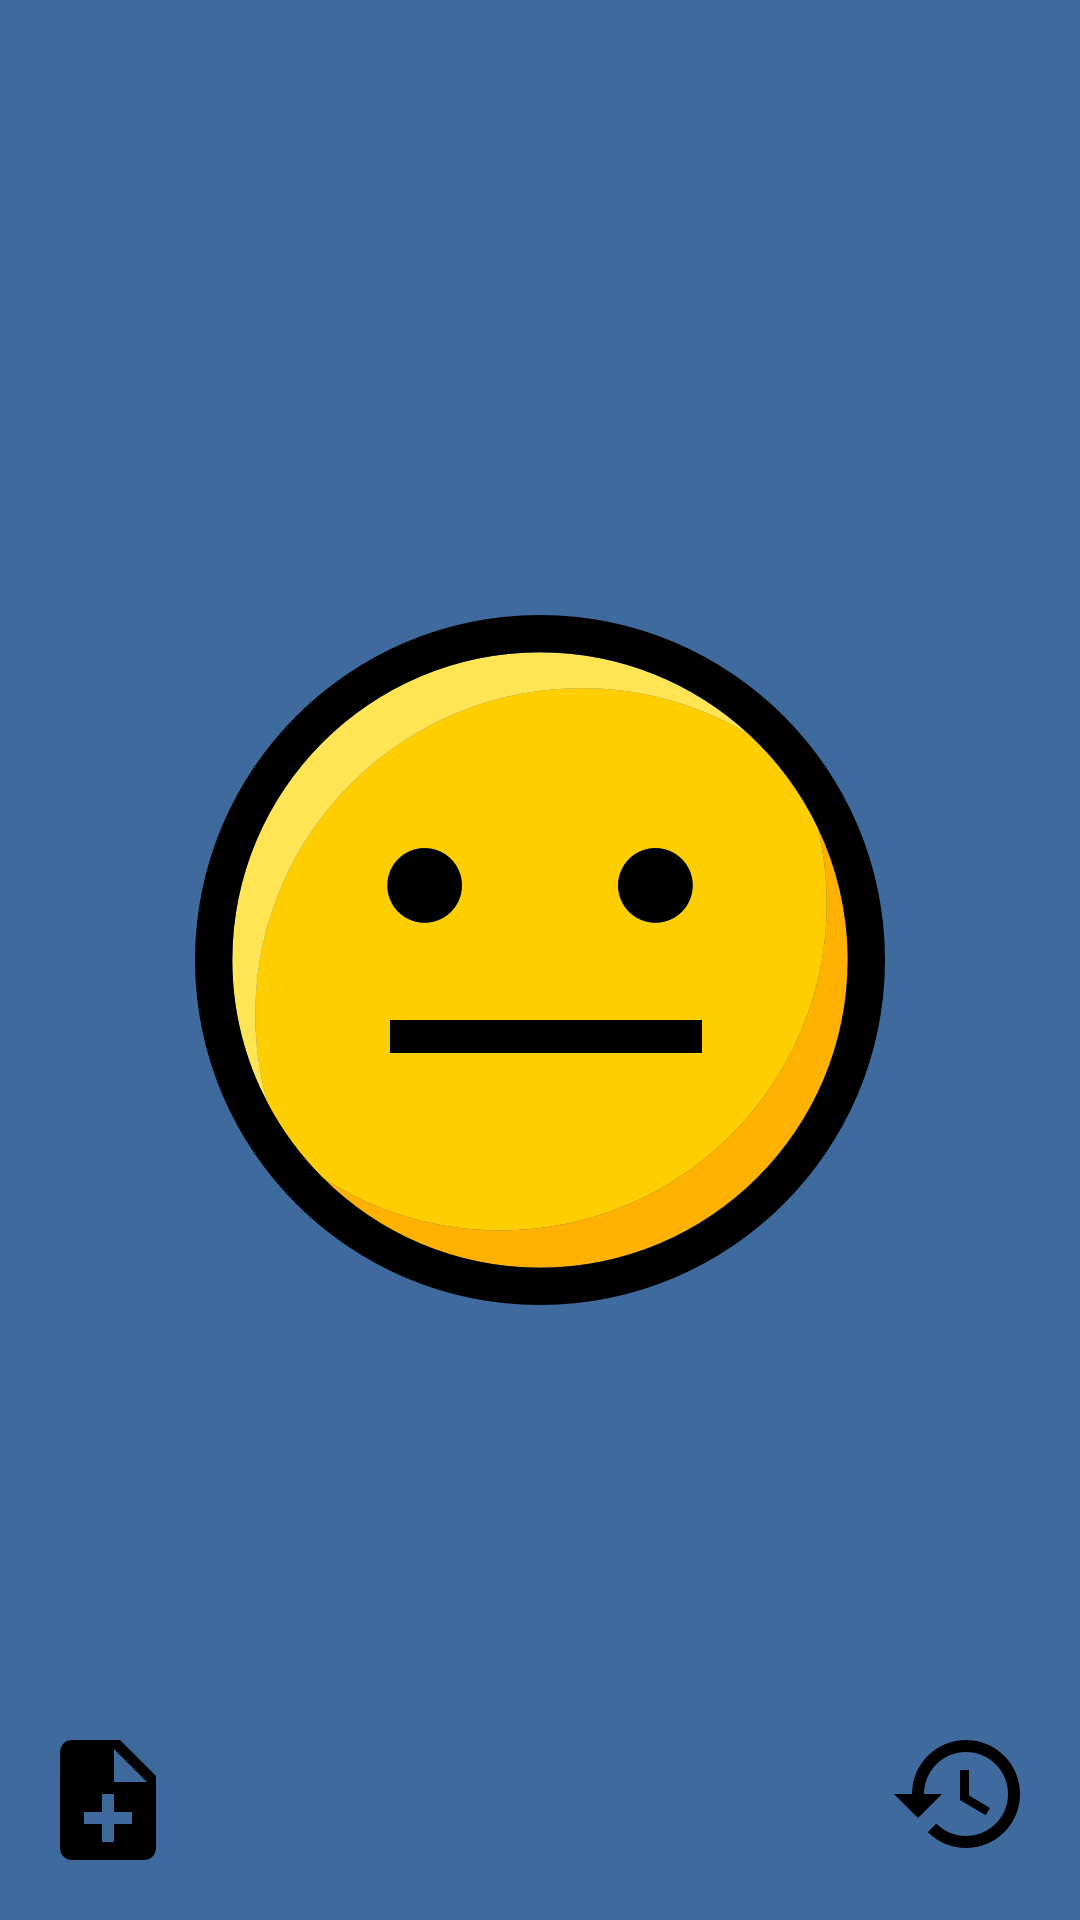

Screen size 1080 × 1920. Icon name, then its center in pixels as (x=x, y=y):
Get your mood history on past 7 day !: (x=957, y=1794)
note add: (x=108, y=1800)
